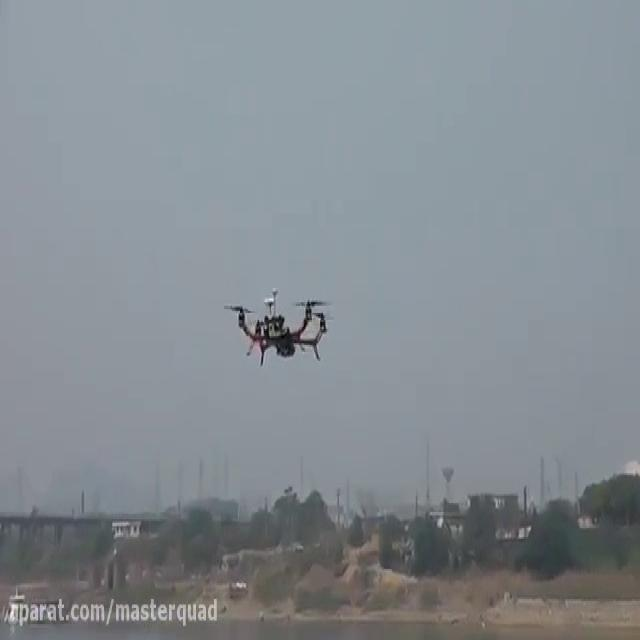drone: (220, 281, 338, 370)
